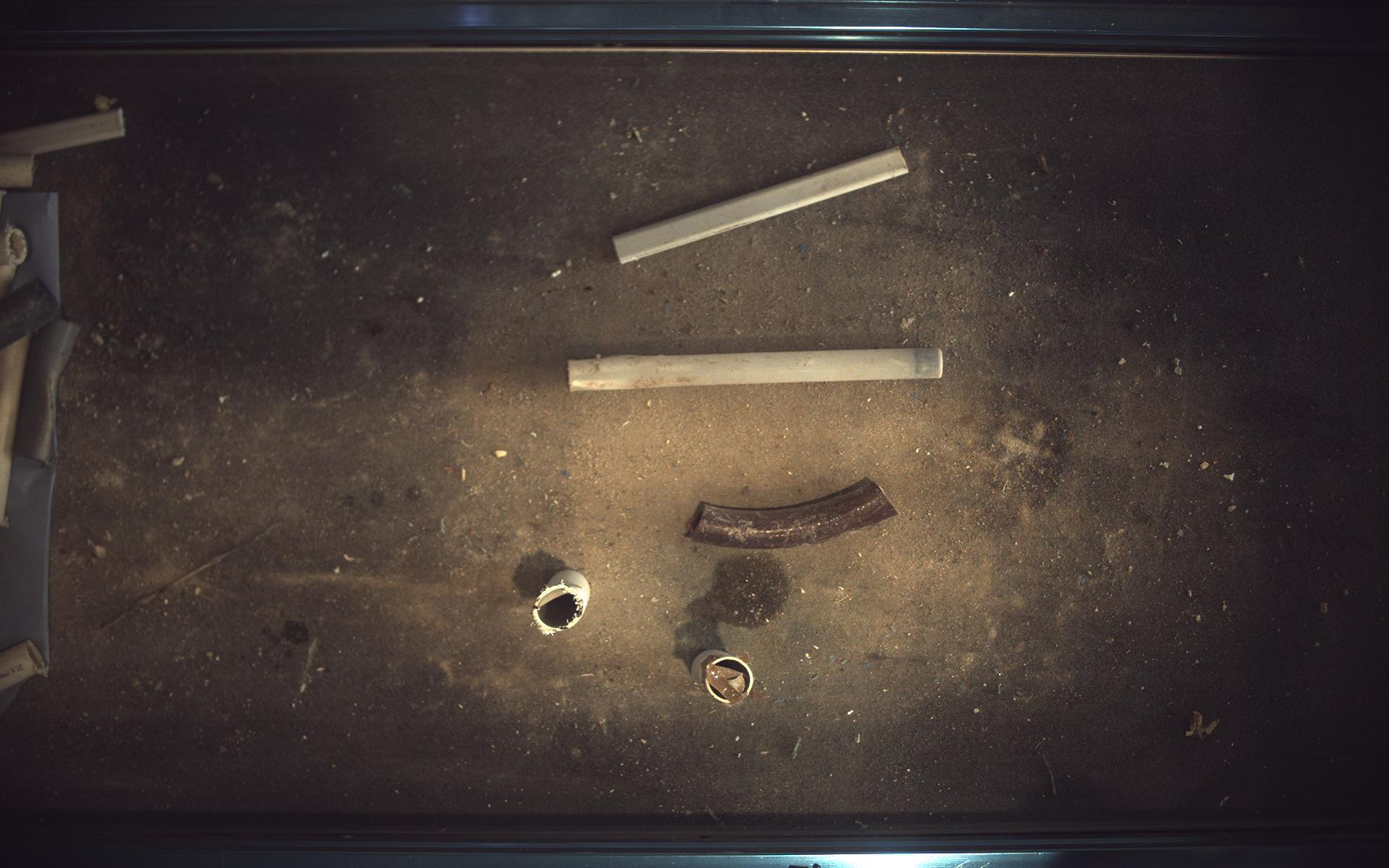pipes: (687, 478, 899, 549), (534, 569, 591, 635), (692, 650, 755, 706)
plastic: (613, 147, 911, 263)
